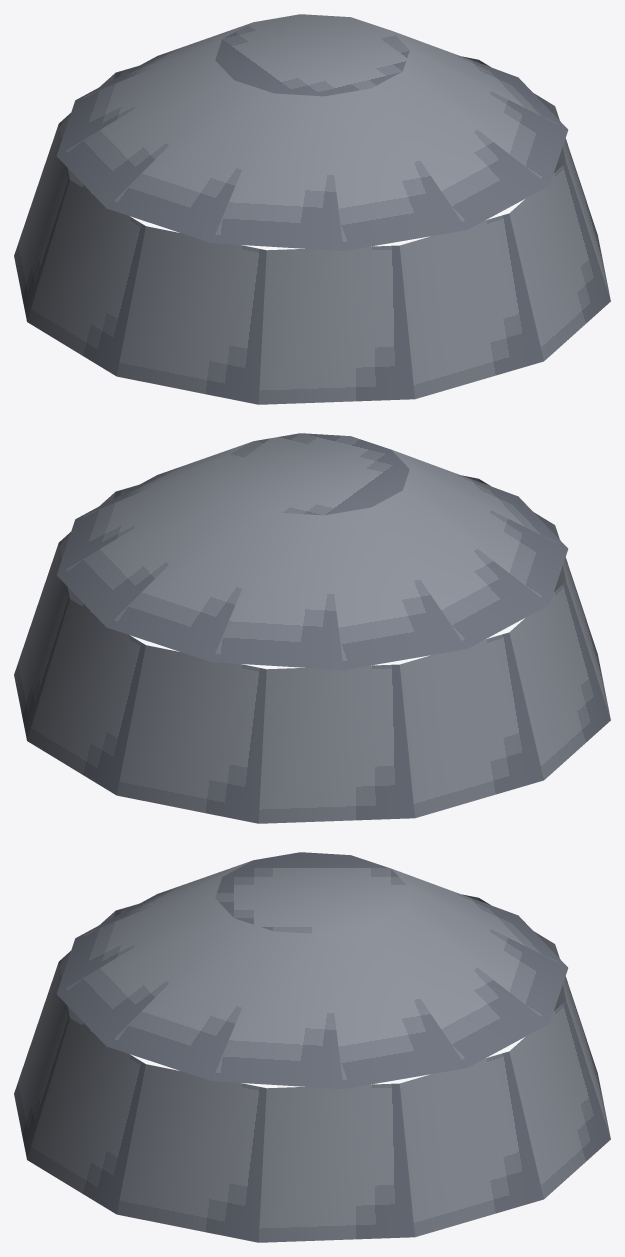
File: rock_1.glb
3 views of the same model, one above another, from view 1: azimuth 30°, elevation 25°; view 2: azimuth 150°, elevation 25°; view 3: azimuth 270°, elevation 25° (orthographic).
Visible parts, largest first — view 1: rock_2; view 2: rock_2; view 3: rock_2.
Boxes of the visible parts, x1,y1,x2,y2 form: rock_2: (14,14,610,404); rock_2: (14,433,610,823); rock_2: (14,852,610,1242).
Size of the model in its own units: 0.9487 by 0.3917 by 0.9487.
1 material, 1 textured.
